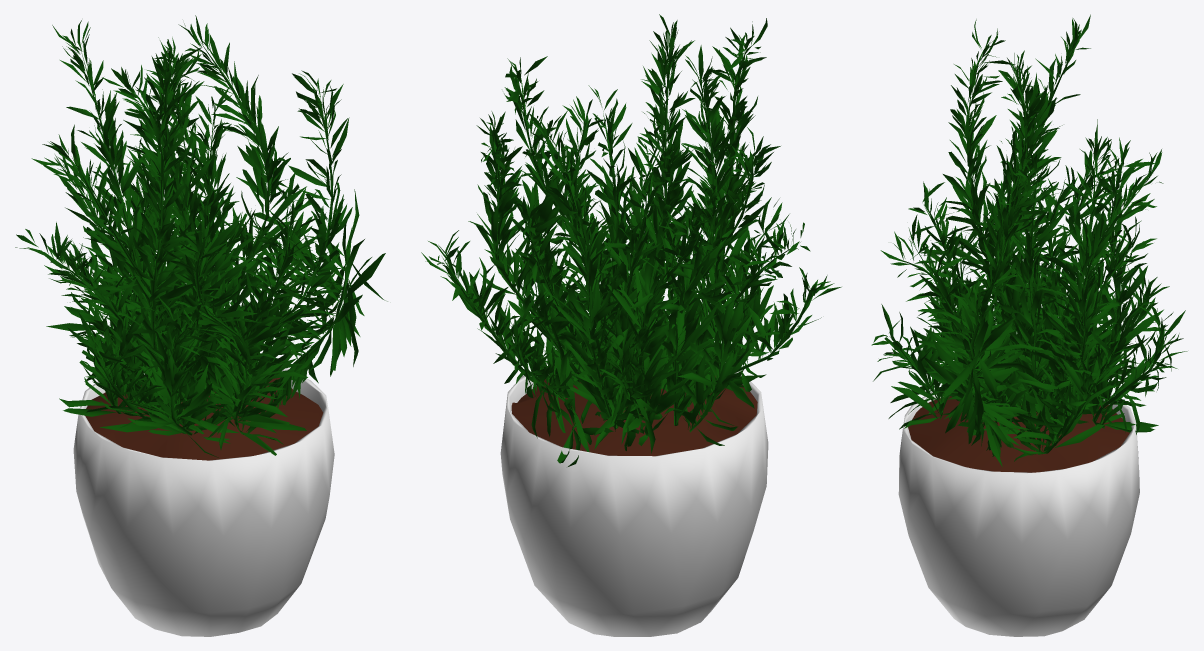
Rendered from Bar_gplant.gltf.
The picture shows the model from 3 angles, left to right: view 1: azimuth 30°, elevation 25°; view 2: azimuth 150°, elevation 25°; view 3: azimuth 270°, elevation 25°; orthographic projection. The views are drawn at different scales.
Visible parts, largest first — view 1: Bar_gplant; view 2: Bar_gplant; view 3: Bar_gplant.
Part boxes in pixels (left/top/right/bottom): Bar_gplant: left=15, top=15, right=387, bottom=636; Bar_gplant: left=421, top=14, right=841, bottom=636; Bar_gplant: left=871, top=14, right=1187, bottom=636.
Bounding box in the file's own units: 0.3967 × 0.655 × 0.3437.
